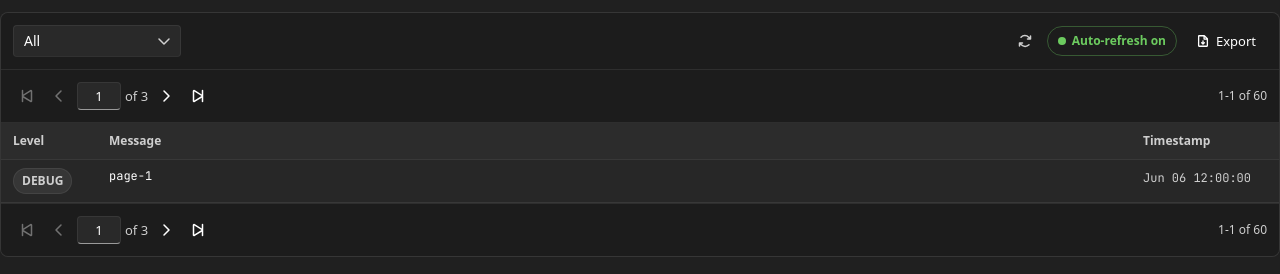
Test: LogViewer › shows first and last pagination controls without a page-size dropdown
Expected: the text "page-1" is shown, [109,168,152,184]
Click the 1st button named "Last page".
click(198, 96)  # box [184,82,212,110]
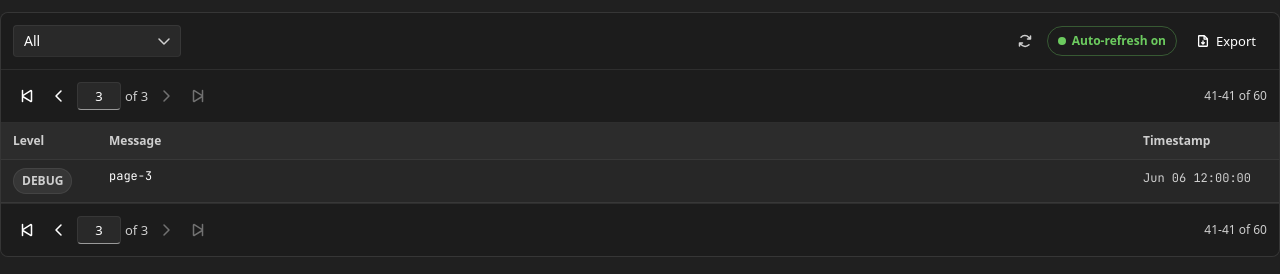
Expected: the text "page-3" is shown, [109,168,152,184]
Click the 1st button named "First page".
click(27, 96)  # box [13,82,41,110]
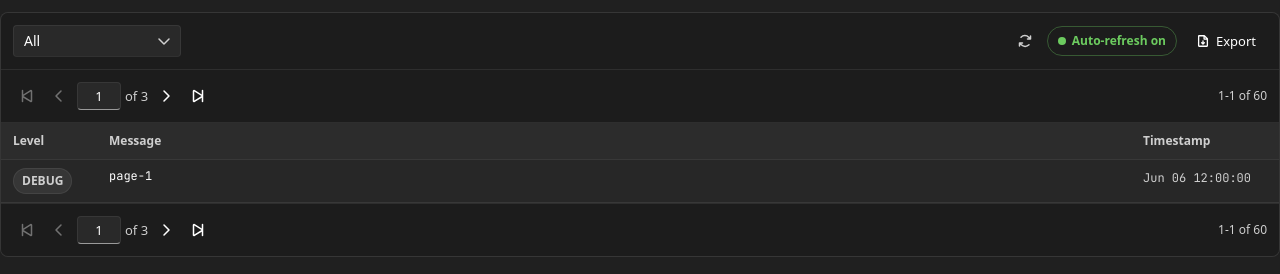
Expected: the text "page-1" is shown, [109,168,152,184]
